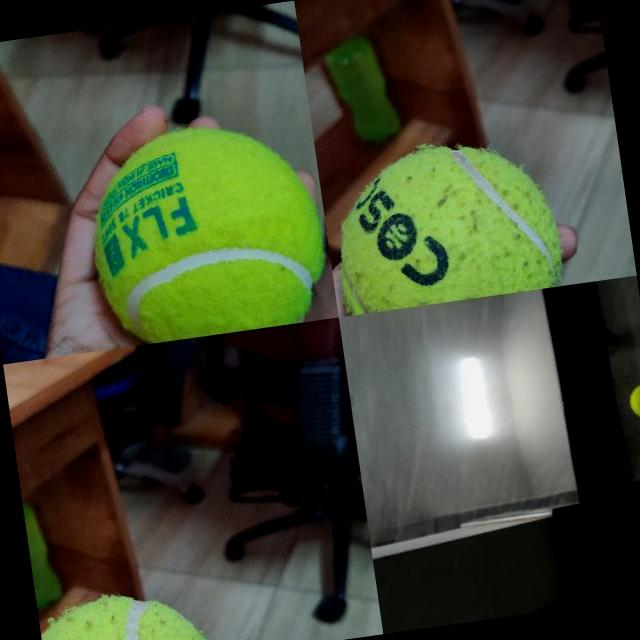Tennis Ball: (79, 112, 332, 348), (322, 127, 568, 316), (36, 579, 217, 640), (626, 381, 640, 420)
